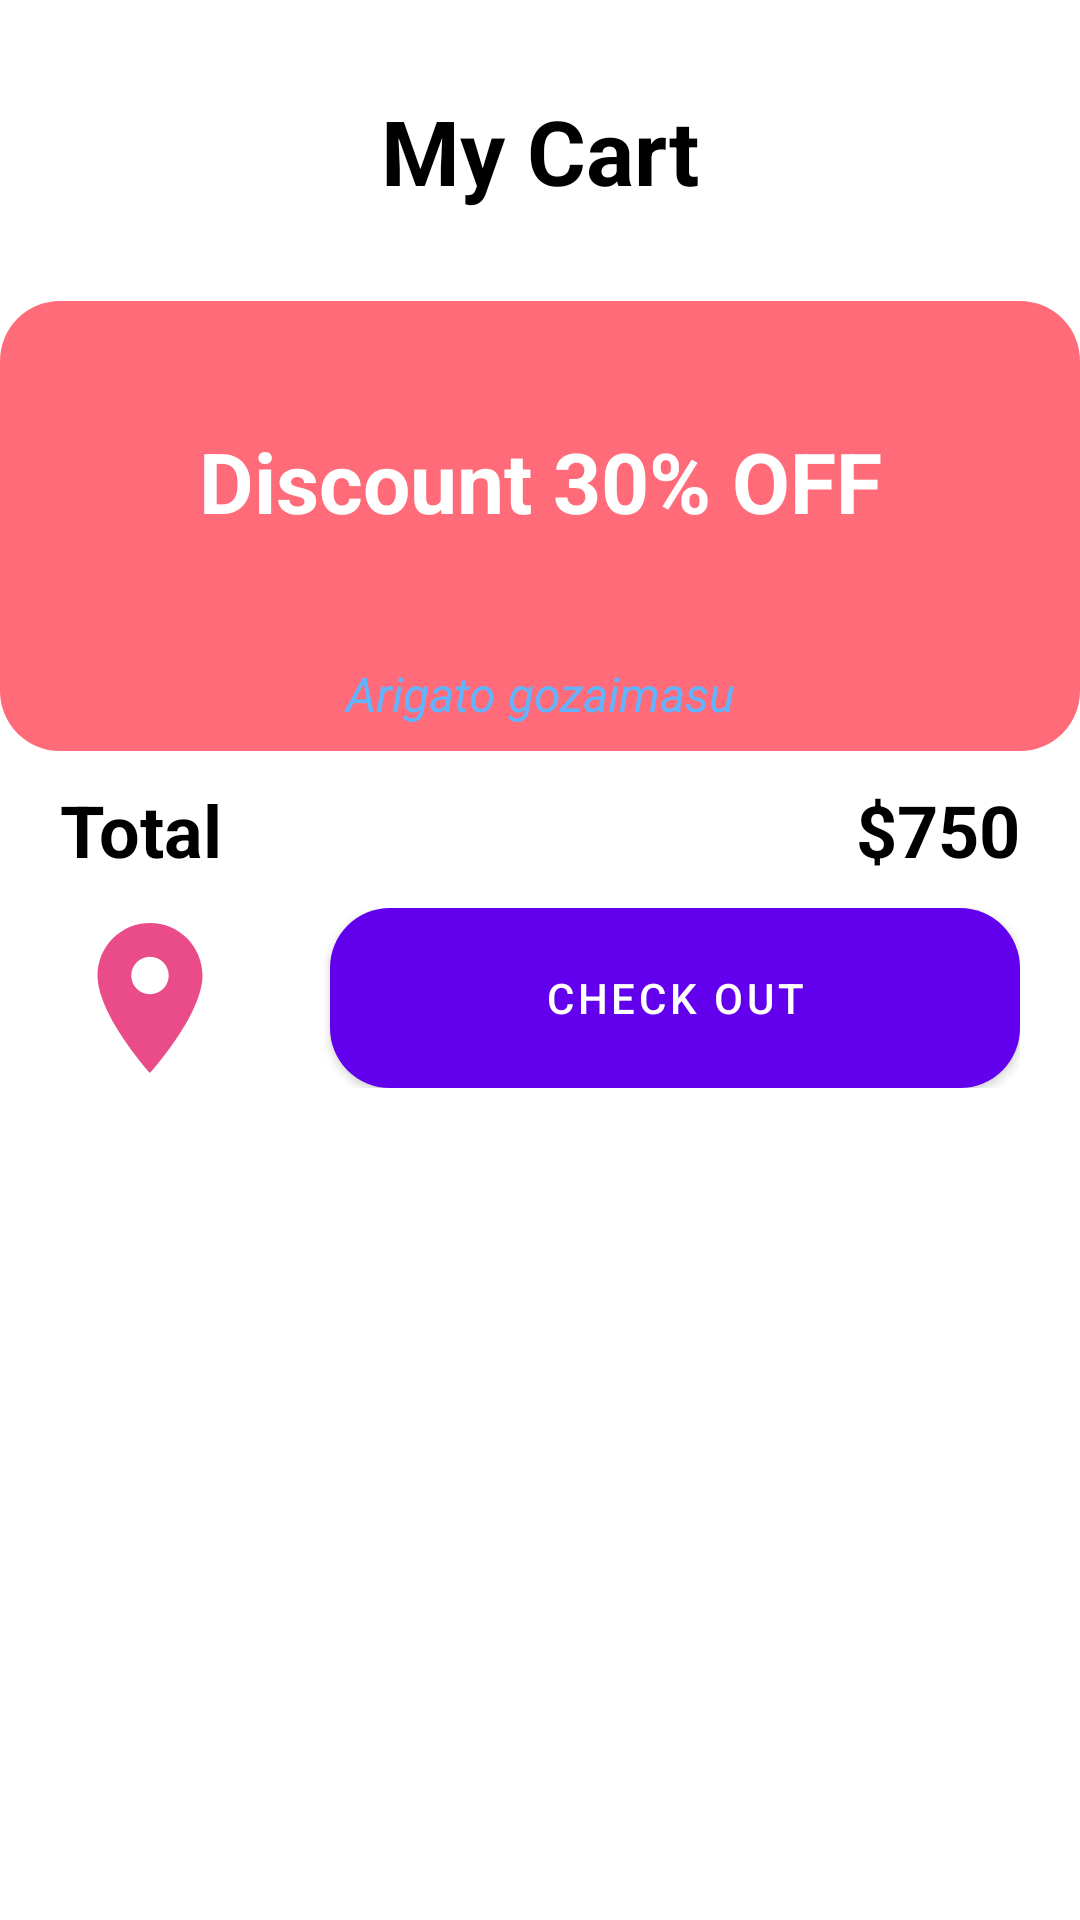

Where icons sit on this 1080px x 1920px app screen, as (x1, y1, x2, y2):
room: (97, 923, 203, 1073)
